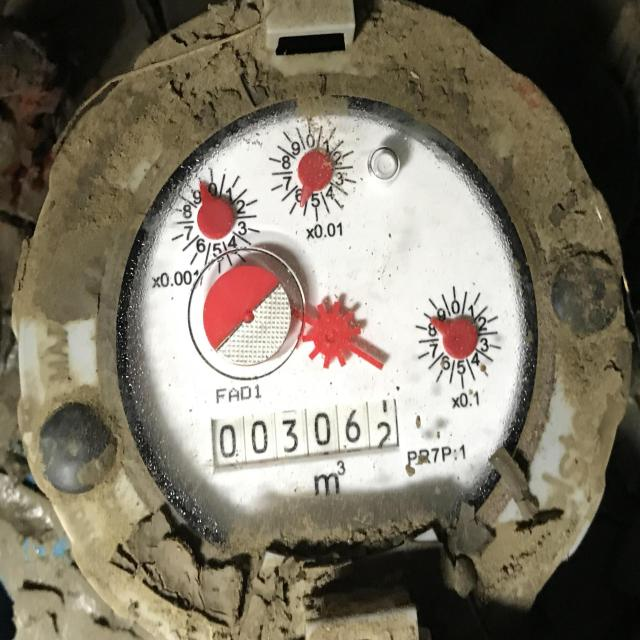gaz_meter: (121, 95, 534, 554)
indication: (208, 397, 399, 470)
